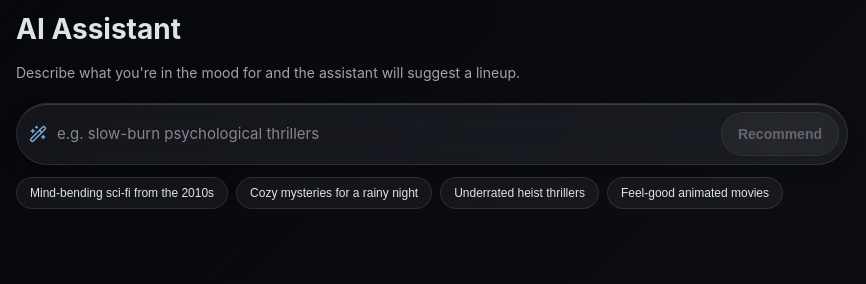
it: Assistant - recommend flow (local provider) › shows the empty-results message when nothing comes back
The image size is (866, 284).
Step 1. Type "x" into the field named "Describe what to watch" → (384, 134), box [55,117,713,151]
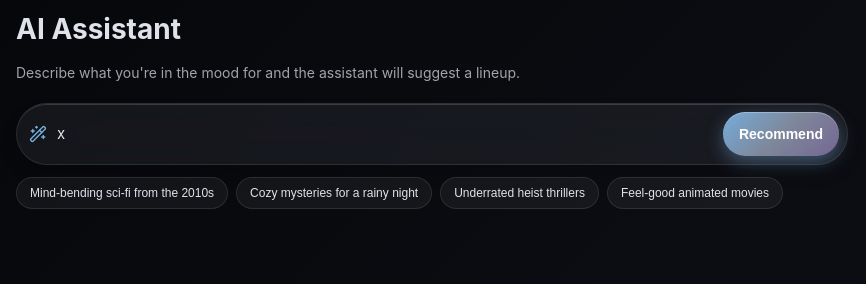
Step 2. Click the button "Recommend" → (781, 134), box [723,112,839,156]
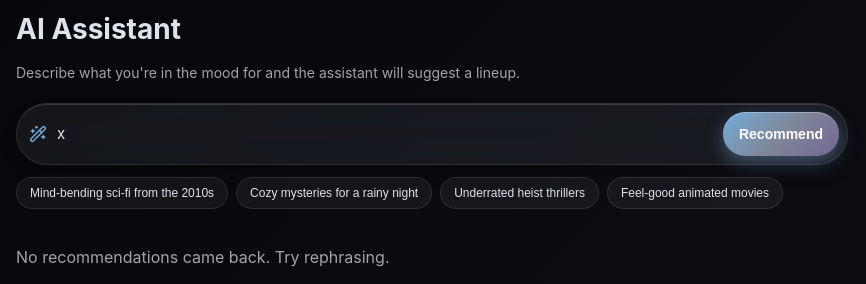
Check: the text "No recommendations came back. Try rephrasing." is shown, box [16,247,390,267]
